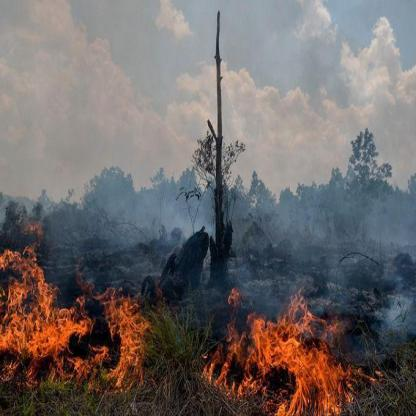fire: (4, 213, 151, 394), (195, 281, 389, 407)
